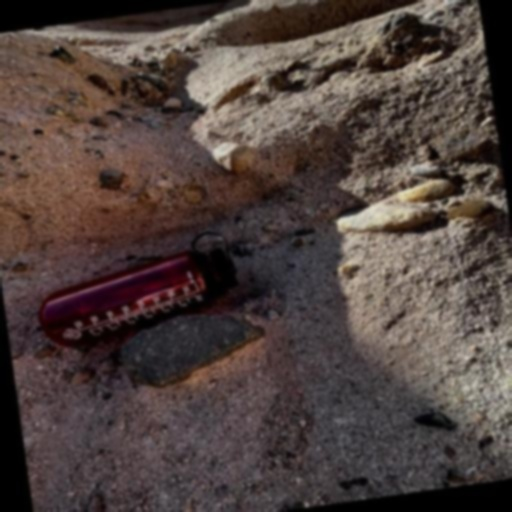mallet: (30, 232, 249, 359)
